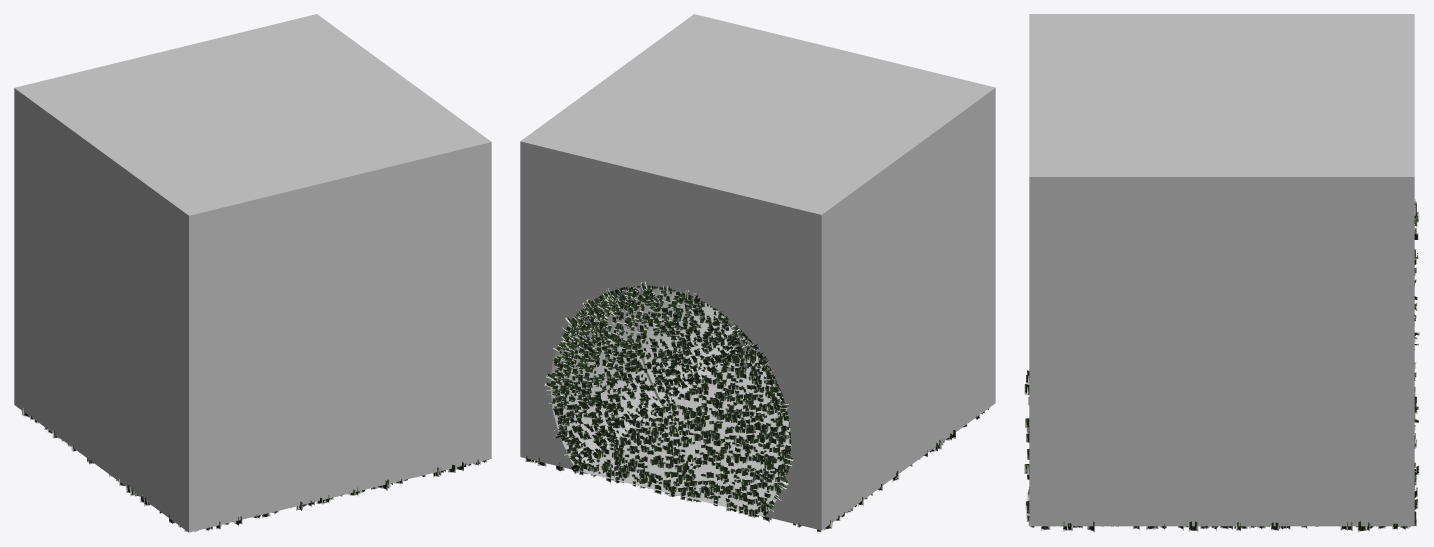
File: Stage1DeadEnd.fbx
3 renders of one model, left to right at view 1: azimuth 30°, elevation 25°; view 2: azimuth 150°, elevation 25°; view 3: azimuth 270°, elevation 25°, orthographic. The views are drawn at different scales.
Visible parts, largest first — view 1: Cube, Scattered_Tunnel_Ivy.002; view 2: Cube, Scattered_Tunnel_Ivy, Scattered_Tunnel_Ivy.002, Road; view 3: Cube, Scattered_Tunnel_Ivy.002, Scattered_Tunnel_Ivy.
Part boxes in pixels (x1=…): Cube: x1=14, y1=14, x2=491, y2=532; Scattered_Tunnel_Ivy.002: x1=17, y1=406, x2=488, y2=531; Cube: x1=520, y1=14, x2=995, y2=530; Scattered_Tunnel_Ivy: x1=544, y1=281, x2=793, y2=511; Scattered_Tunnel_Ivy.002: x1=525, y1=349, x2=989, y2=532; Road: x1=581, y1=350, x2=791, y2=516; Cube: x1=1029, y1=14, x2=1414, y2=526; Scattered_Tunnel_Ivy.002: x1=1024, y1=363, x2=1418, y2=532; Scattered_Tunnel_Ivy: x1=1414, y1=199, x2=1419, y2=498.
Bounding box in the file's own units: 20.36 × 20.38 × 20.51.
